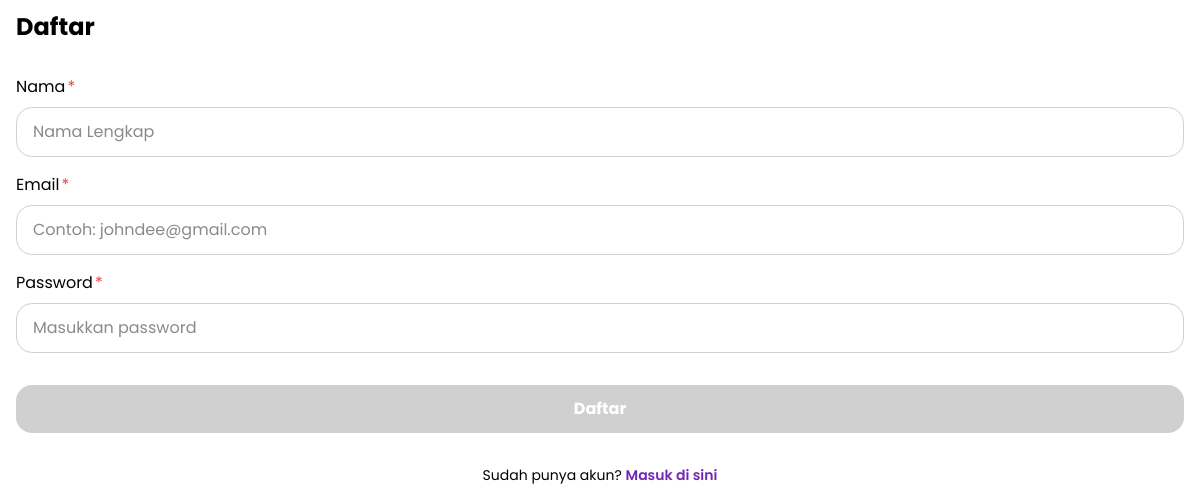
it: Register button should be enabled when inputs is not empty
Type "secondhand" into the field with placeholder "Nama Lengkap" at (600, 132), box [16,107,1184,157]
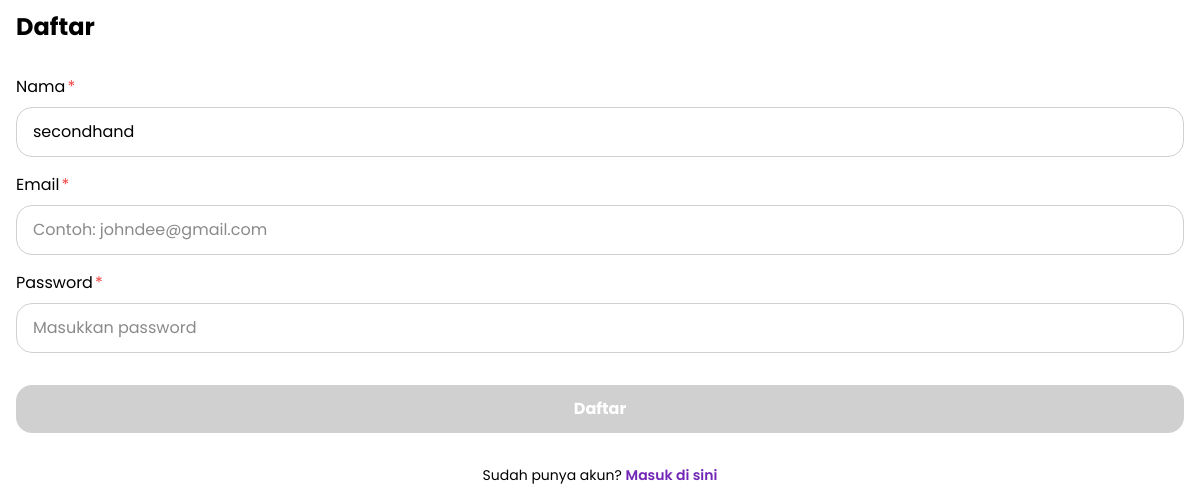
Type "secondhand@email.com" into the field with placeholder "Contoh: johndee@gmail.com" at (600, 230), box [16,205,1184,255]
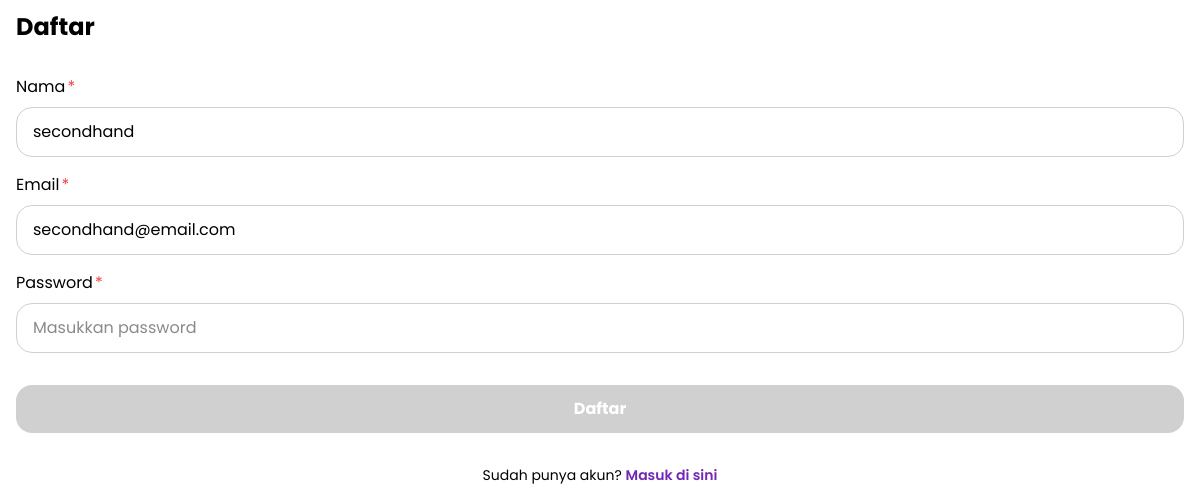
Type "sh0123456789" into the password field with placeholder "Masukkan password" at (600, 328), box [16,303,1184,353]
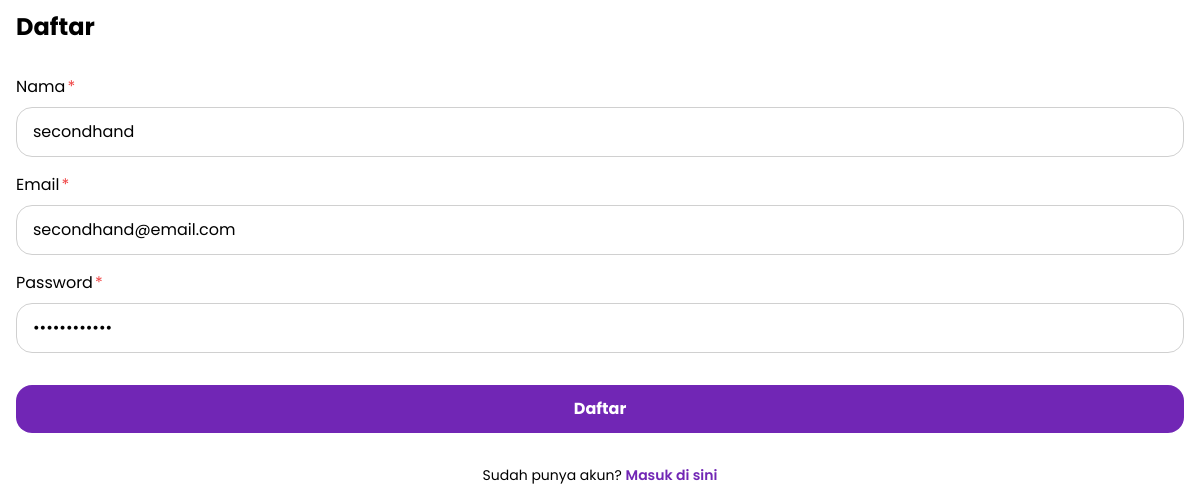
Result: the button "Daftar" is enabled at [16,385,1184,433]
